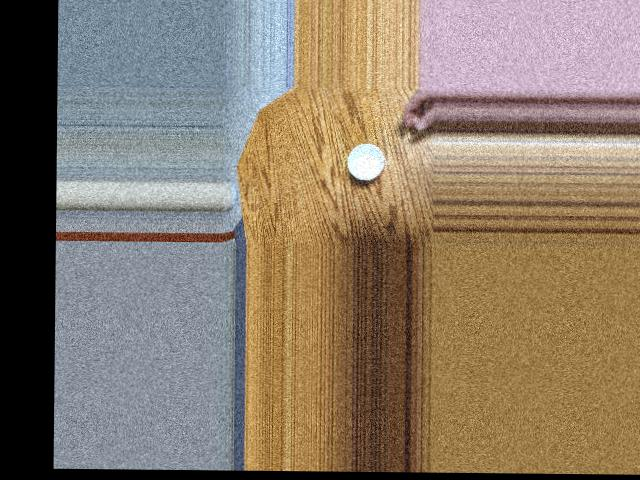cotage: (343, 139, 391, 180)
